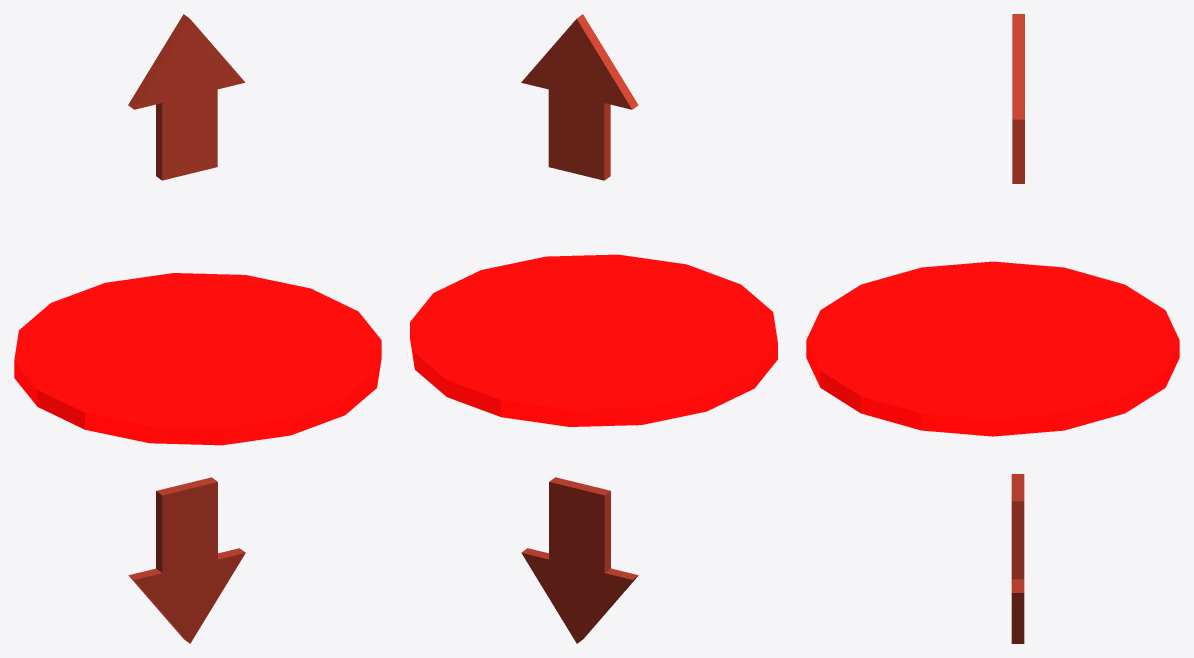
The model's file is Vertical_Red_Pad.glb.
3 views of the same model, side by side, from view 1: azimuth 30°, elevation 25°; view 2: azimuth 150°, elevation 25°; view 3: azimuth 270°, elevation 25° (orthographic).
Parts seen in each view (by area): view 1: Cylinder.022, Plane, Plane.001; view 2: Cylinder.022, Plane.001, Plane; view 3: Cylinder.022, Plane, Plane.001.
Part boxes in pixels (x1,y1,x2,y2): Cylinder.022: [14, 273, 381, 445]; Plane: [128, 477, 245, 643]; Plane.001: [128, 14, 244, 180]; Cylinder.022: [410, 254, 777, 426]; Plane.001: [521, 14, 638, 180]; Plane: [521, 477, 638, 643]; Cylinder.022: [806, 261, 1179, 436]; Plane: [1011, 474, 1024, 643]; Plane.001: [1012, 14, 1024, 183].
Size of the model in its own units: 2 by 3.72 by 2.
Materials: 2 (2 with a texture image).
